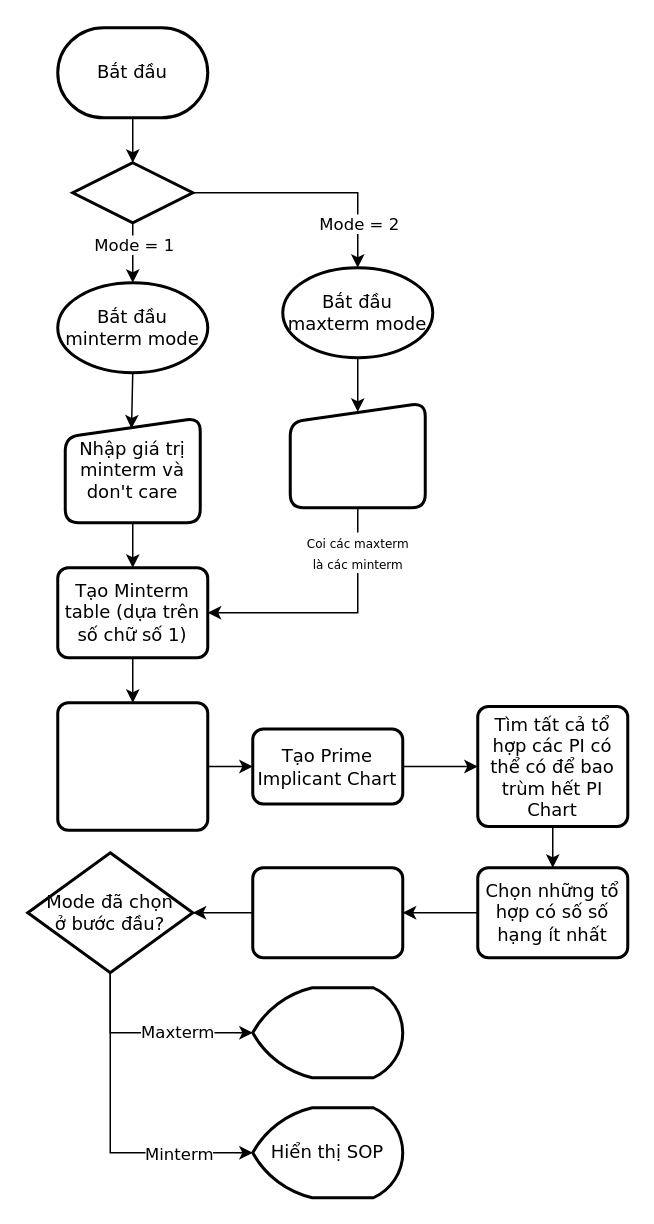
The diagram is 654 pixels wide and 1224 high, and some of its shapes have lost their labels. Each missing label, with the box of its shape:
Chọn những tổ hợp có số biến ít nhất: (250, 866, 404, 958)
Hiển thị POS: (250, 986, 404, 1078)
Mode?: (70, 160, 194, 224)
Nhập giá trị maxterm và don't care: (288, 400, 426, 508)
Tổng hợp các minterm theo từng cặp (khác nhau duy nhất 1 bit): (56, 700, 208, 831)
